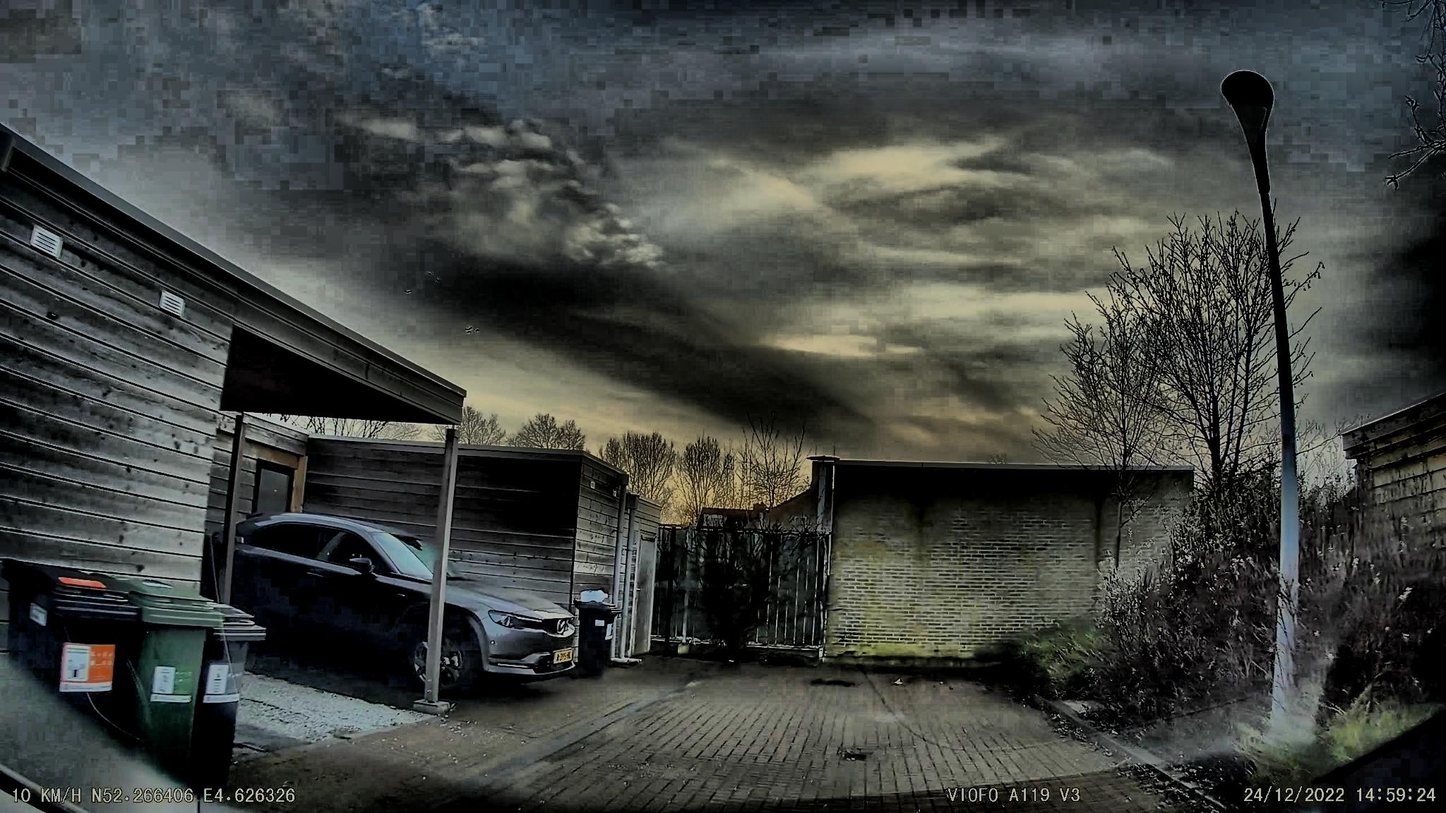Roads: (224, 661, 1229, 813)
